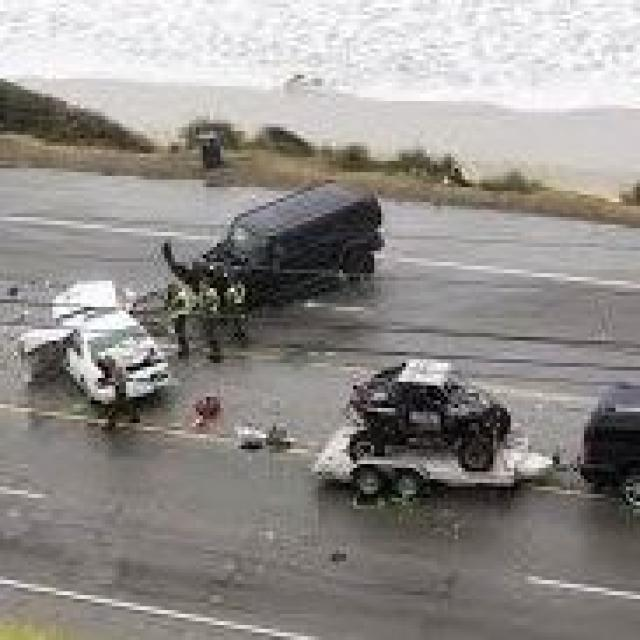traffic_incident: (144, 138, 396, 356), (0, 246, 234, 460)
